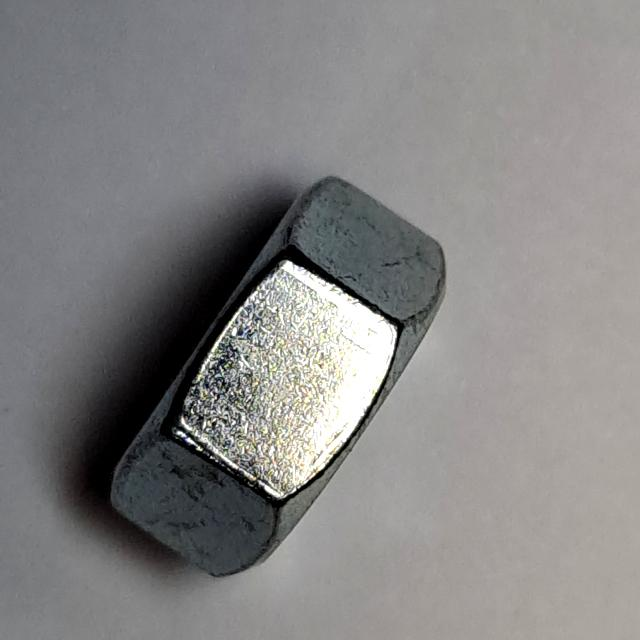Side_Excellent: (82, 156, 478, 603)
